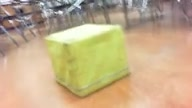cube: (43, 24, 128, 97)
